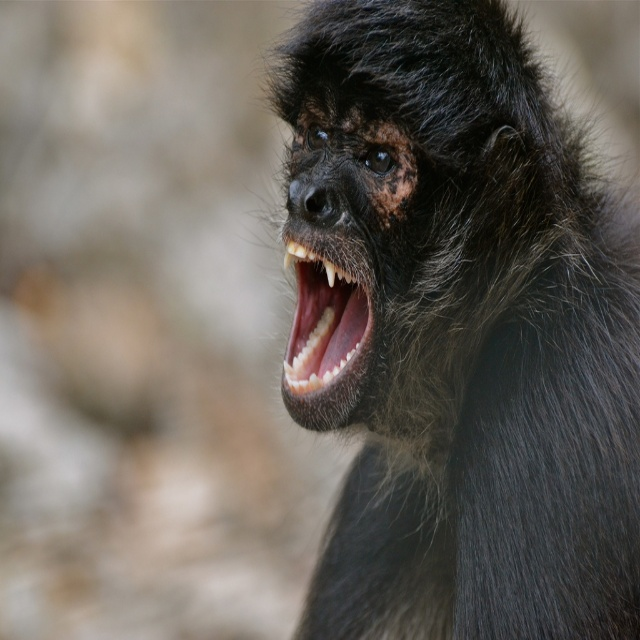Monkey: (235, 0, 640, 640)
